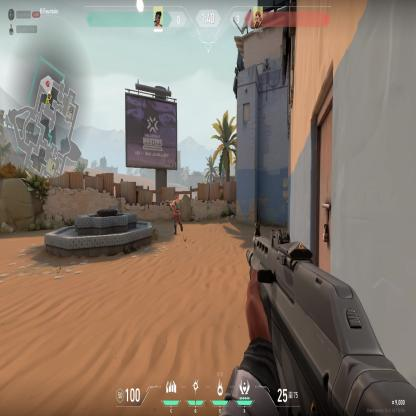enemy: (172, 194, 183, 236)
